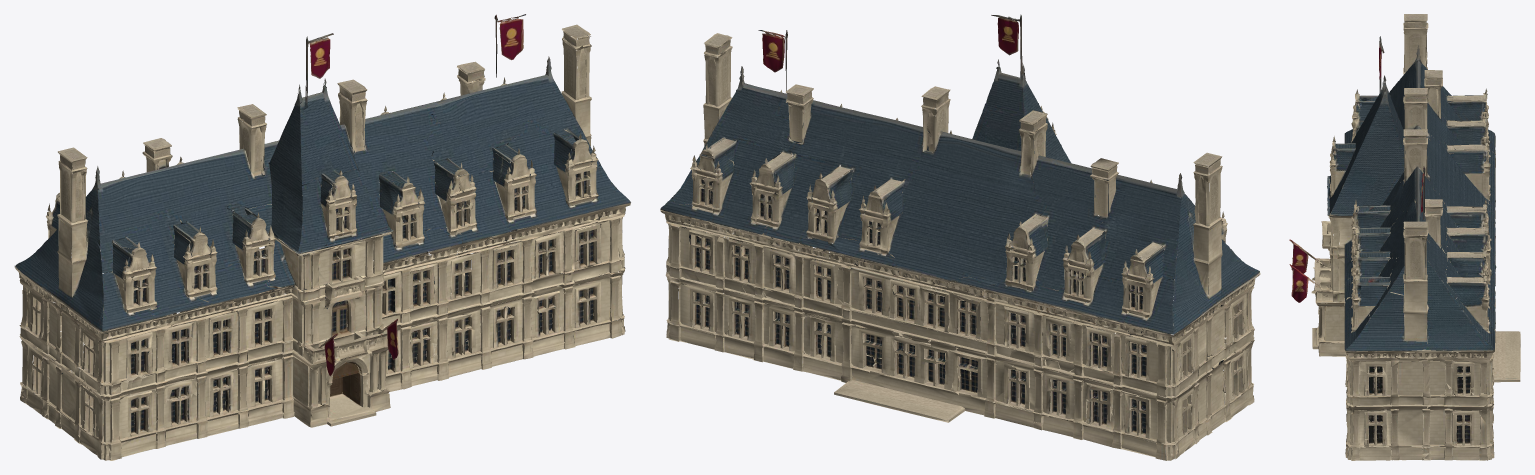
The model's file is palais.glb.
3 views of the same model, side by side, from view 1: azimuth 30°, elevation 25°; view 2: azimuth 150°, elevation 25°; view 3: azimuth 270°, elevation 25° (orthographic). The views are drawn at different scales.
Parts seen in each view (by area): view 1: palais; view 2: palais; view 3: palais.
Part boxes in pixels (x1,y1,x2,y2): palais: (14,14,630,460); palais: (660,14,1260,460); palais: (1289,14,1520,460).
Bounding box in the file's own units: 40.29 × 25.99 × 18.05.
Materials: 1 (1 with a texture image).
